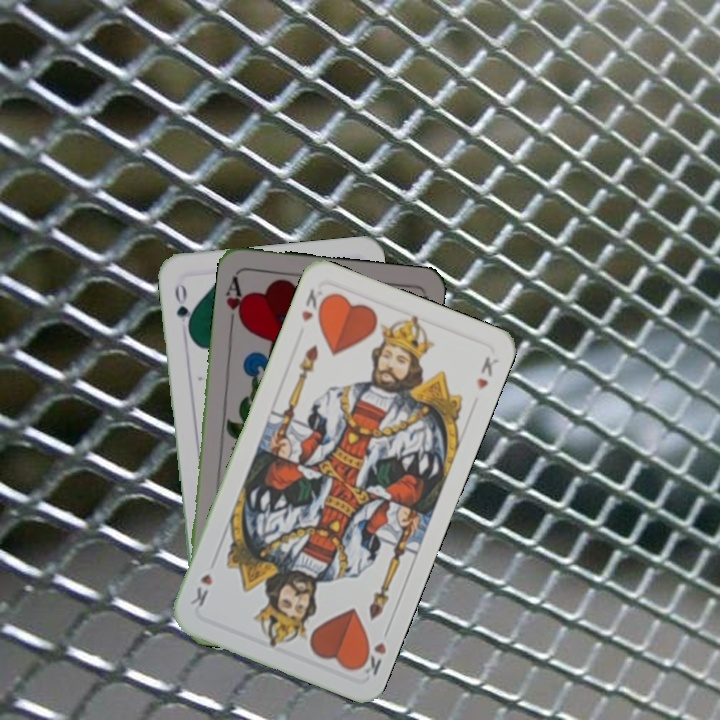GO: (170, 278, 195, 336)
HA: (222, 272, 249, 330)
HK: (354, 622, 393, 678), (297, 284, 325, 324)
